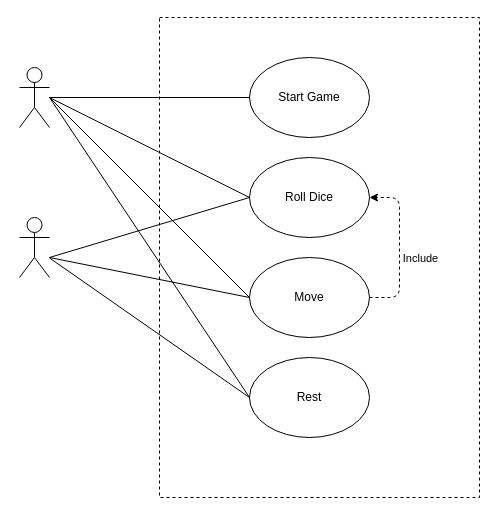
Some shapes in this 497 by 515 pixel diagram are drawn without their labels. Each missing label, with the centre of its shape:
"Actor" goes at [34,97].
"Player" goes at [34,247].
